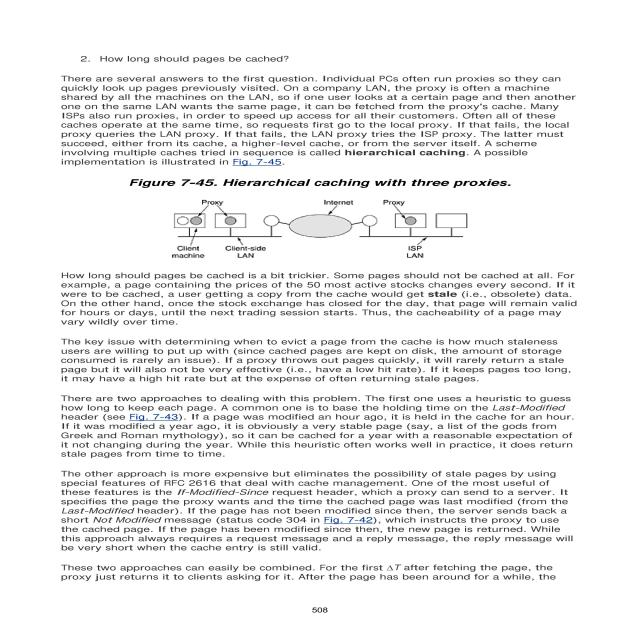diagram: (75, 170, 557, 271)
